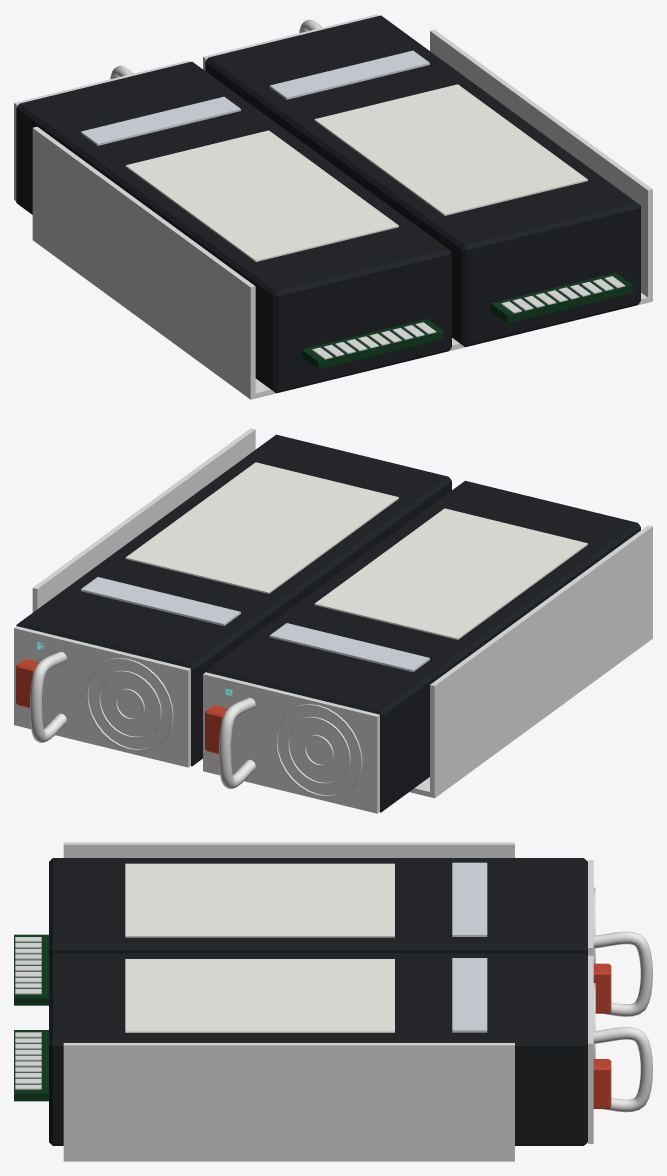
The model's file is hw_psu_1600w_red.glb.
3 views of the same model, one above another, from view 1: azimuth 30°, elevation 25°; view 2: azimuth 150°, elevation 25°; view 3: azimuth 270°, elevation 25° (orthographic). The views are drawn at different scales.
Parts seen in each view (by area): view 1: Body; view 2: Body; view 3: Body.
Boxes of the visible parts, x1=… form: Body: x1=14, y1=14, x2=652, y2=399; Body: x1=14, y1=428, x2=652, y2=813; Body: x1=14, y1=842, x2=652, y2=1161.
Bounding box in the file's own units: 0.165 × 0.044 × 0.2193.
